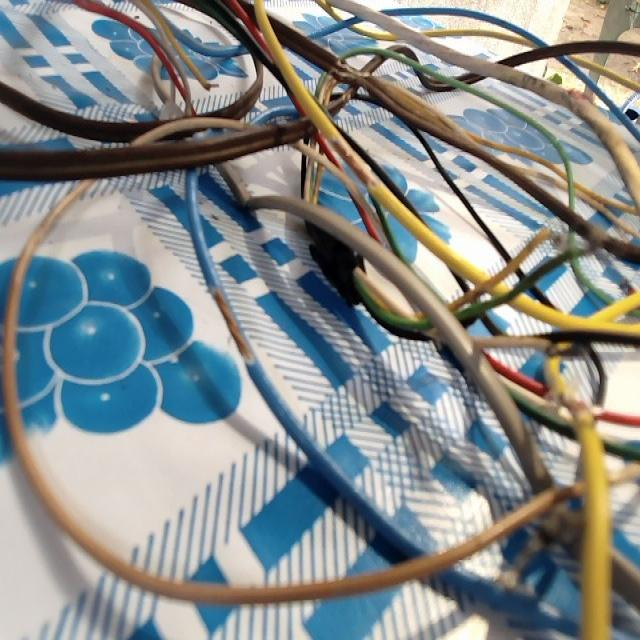-: (206, 280, 261, 368), (327, 124, 385, 196)
